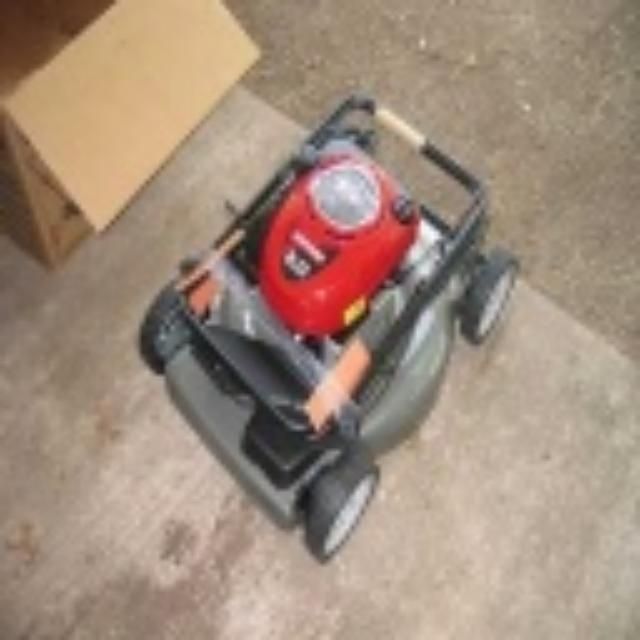Rotary-Mower: (113, 79, 531, 561)
